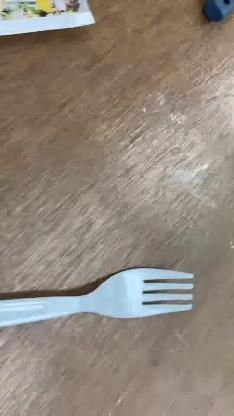Others: (0, 266, 194, 328)
